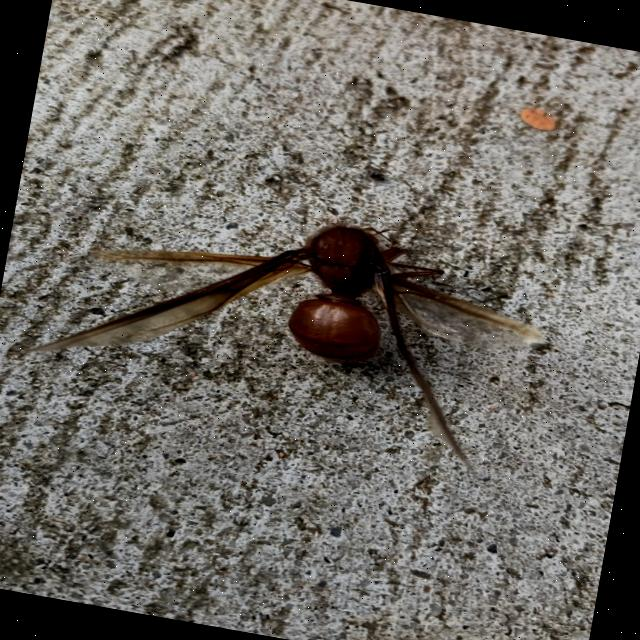Alive-Male-Alate: (16, 160, 563, 482)
